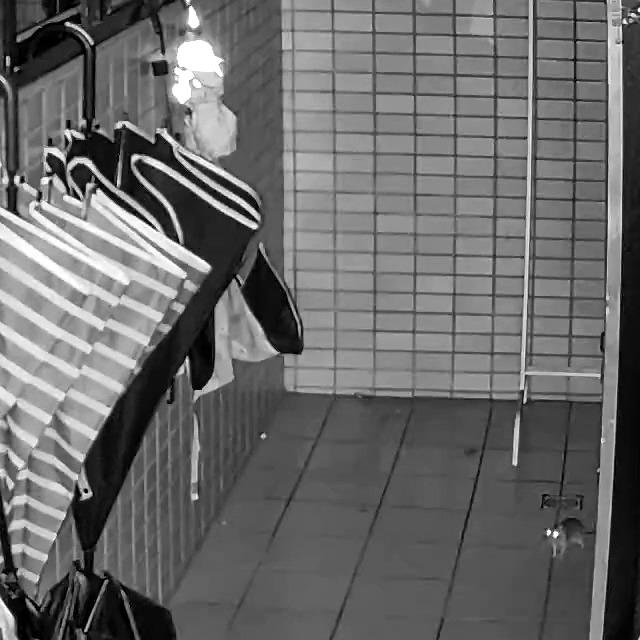rat: (542, 518, 595, 560)
